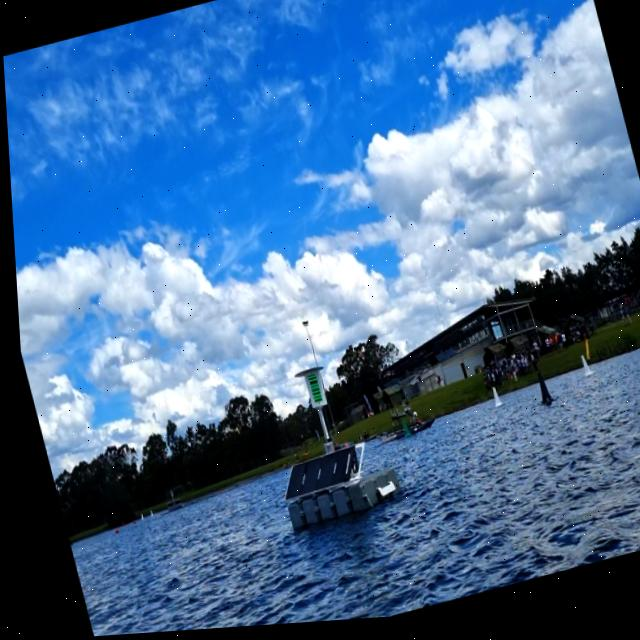led: (300, 375, 321, 411)
